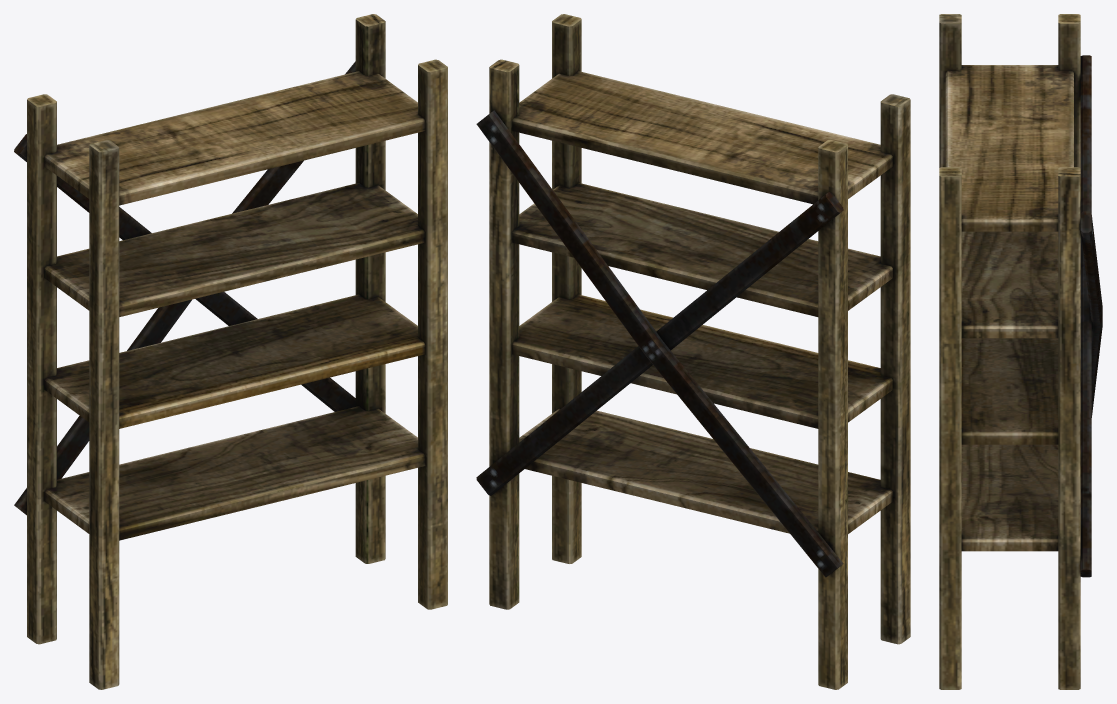
Rendered from shelf_no_back.dae.
The picture shows the model from 3 angles, left to right: view 1: azimuth 30°, elevation 25°; view 2: azimuth 150°, elevation 25°; view 3: azimuth 270°, elevation 25°; orthographic projection. The views are drawn at different scales.
Parts seen in each view (by area): view 1: shelf_no_back; view 2: shelf_no_back; view 3: shelf_no_back.
Part boxes in pixels (x1=…): shelf_no_back: x1=14, y1=14, x2=447, y2=689; shelf_no_back: x1=476, y1=14, x2=910, y2=689; shelf_no_back: x1=939, y1=14, x2=1102, y2=689.
Bounding box in the file's own units: 2.12 × 3 × 0.8668.
